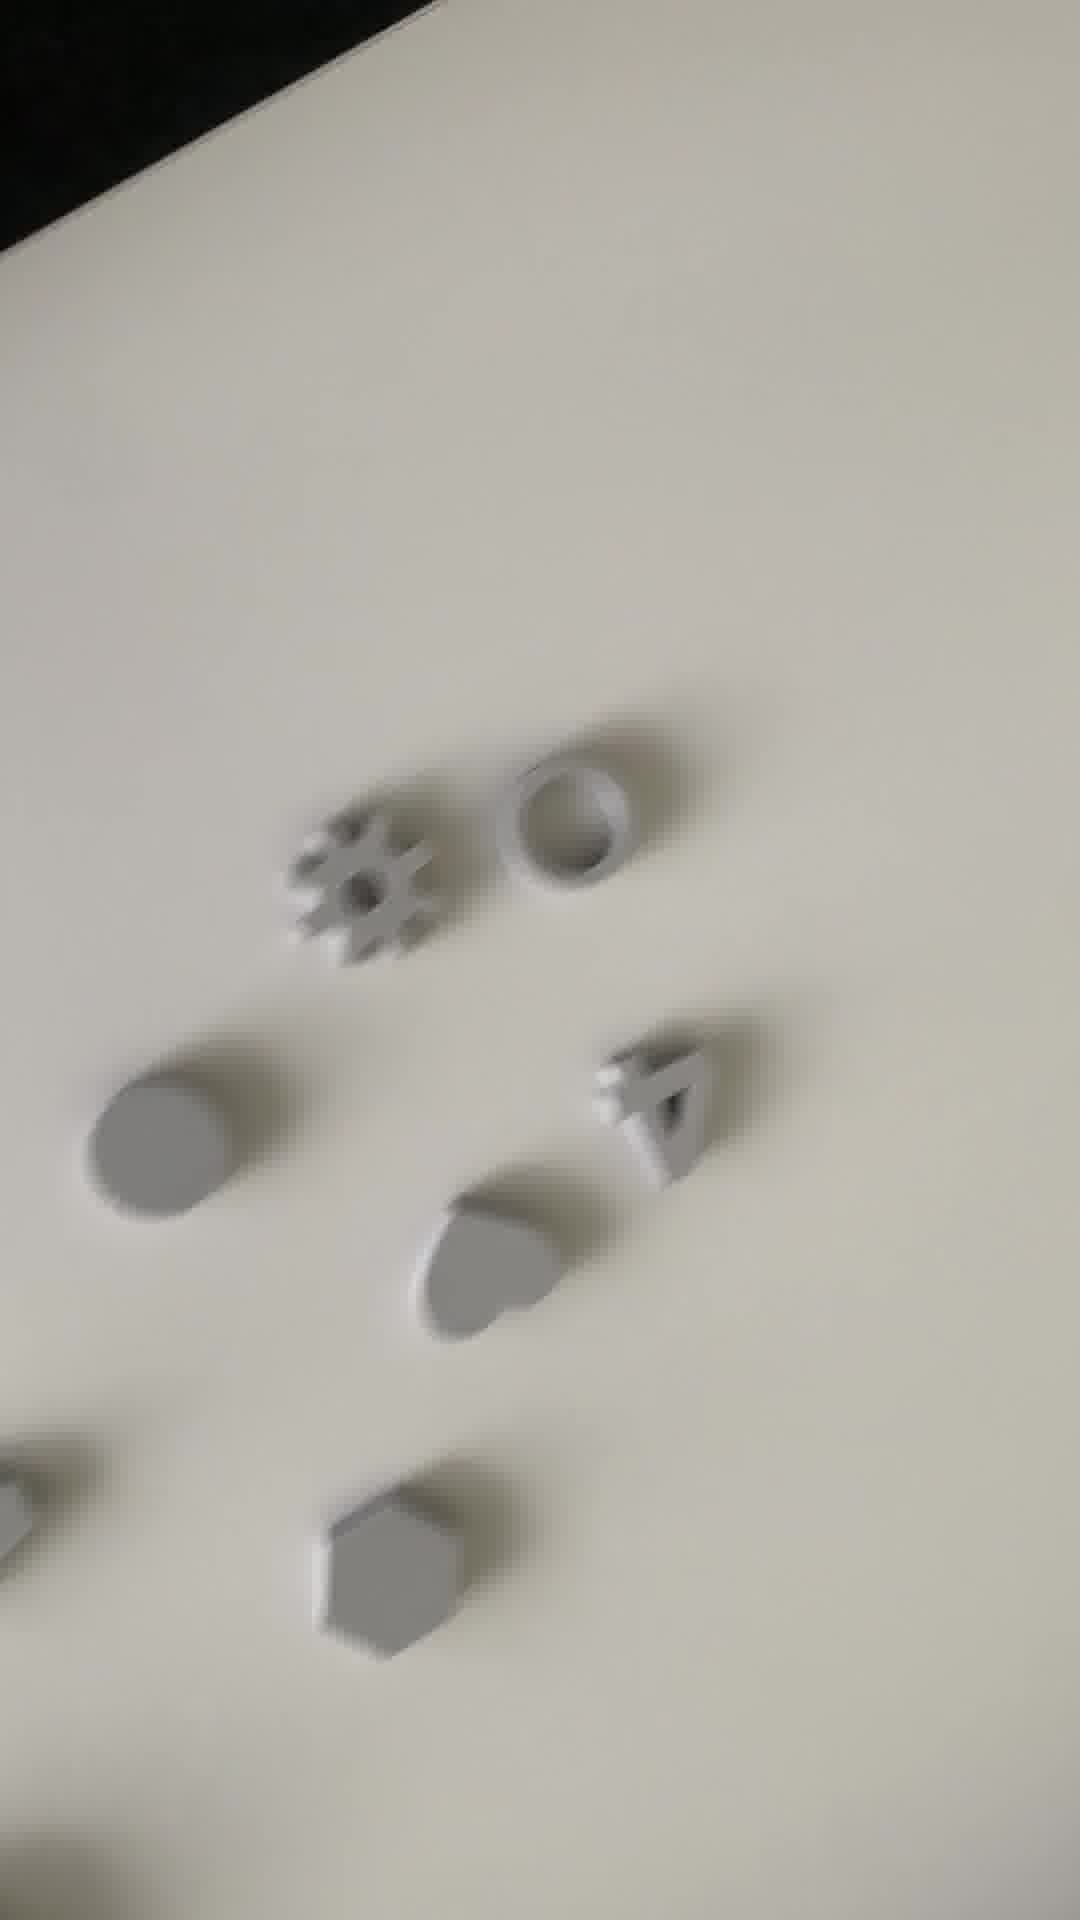Gray circle: (90, 1069, 239, 1234)
Gray four: (593, 1038, 723, 1195)
Gray gear: (273, 799, 443, 997)
Gray heart: (407, 1199, 575, 1352)
Gray hexagon: (294, 1491, 475, 1675)
Gray ring: (491, 750, 645, 903)
